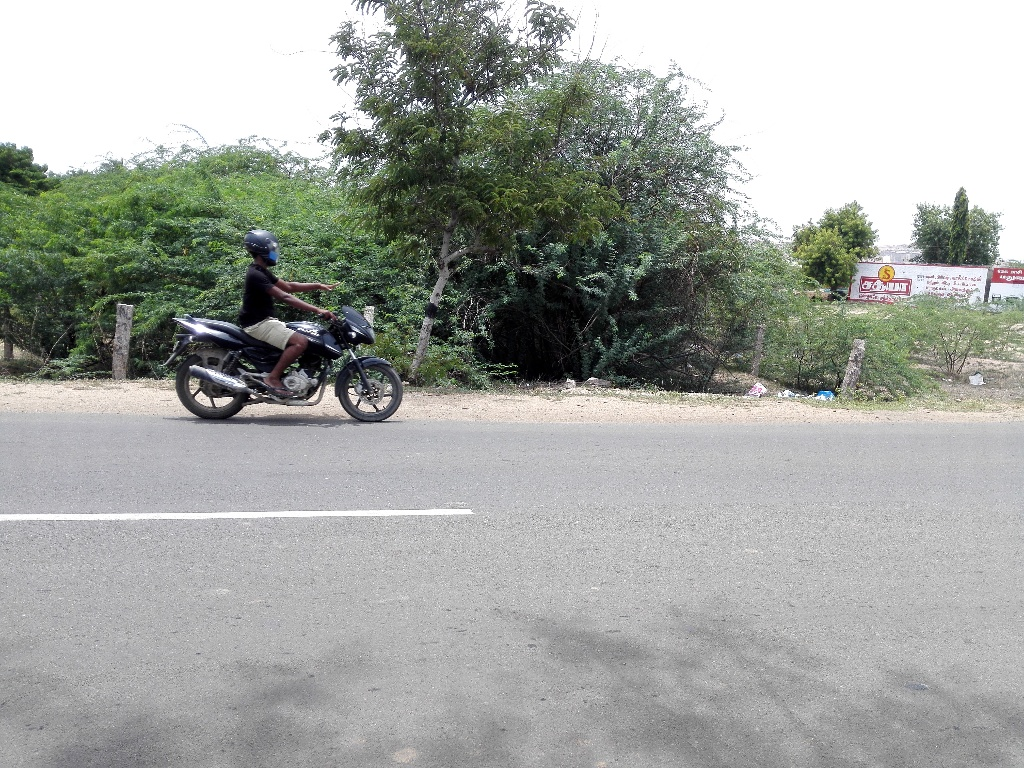biker: (144, 196, 435, 438)
helmet: (240, 220, 290, 283)
